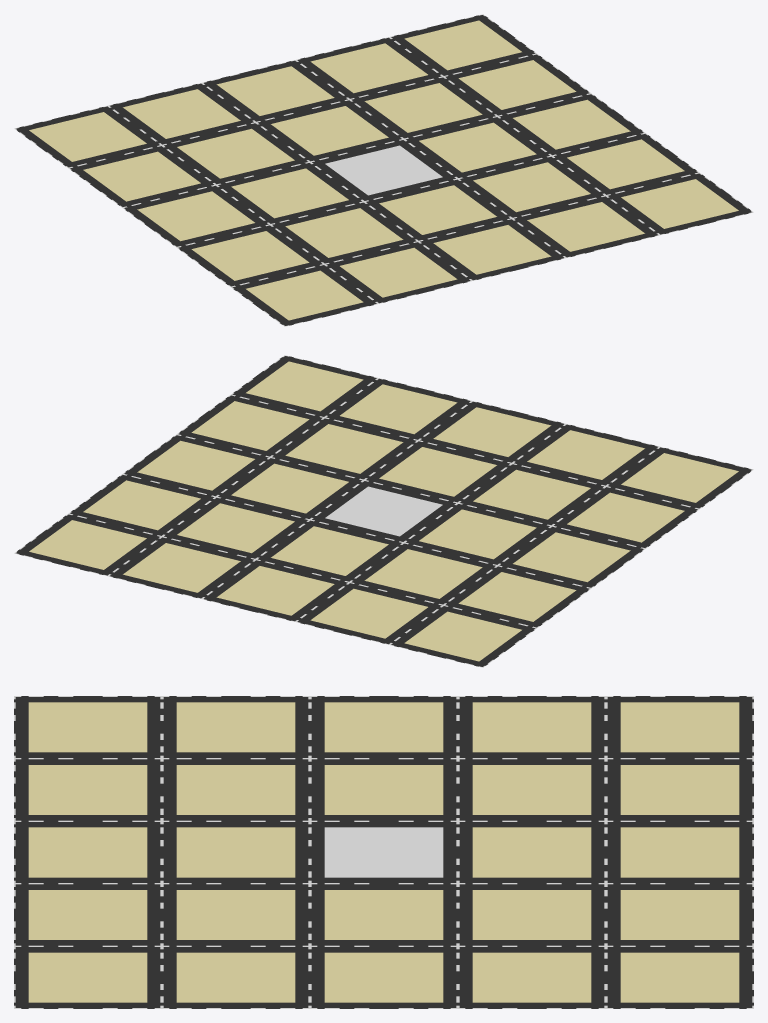
File: Floor3.glb
3 views of the same model, one above another, from view 1: azimuth 30°, elevation 25°; view 2: azimuth 150°, elevation 25°; view 3: azimuth 270°, elevation 25° (orthographic). The views are drawn at different scales.
Parts seen in each view (by area): view 1: Plane; view 2: Plane; view 3: Plane.
Boxes of the visible parts, x1=… form: Plane: x1=14, y1=14, x2=753, y2=326; Plane: x1=14, y1=355, x2=753, y2=667; Plane: x1=14, y1=696, x2=753, y2=1008.
Bounding box in the file's own units: 182 × 0 × 182.
